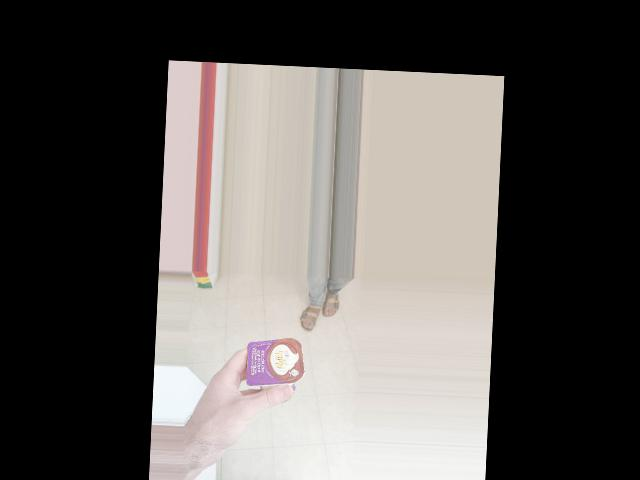milky: (242, 330, 308, 406)
